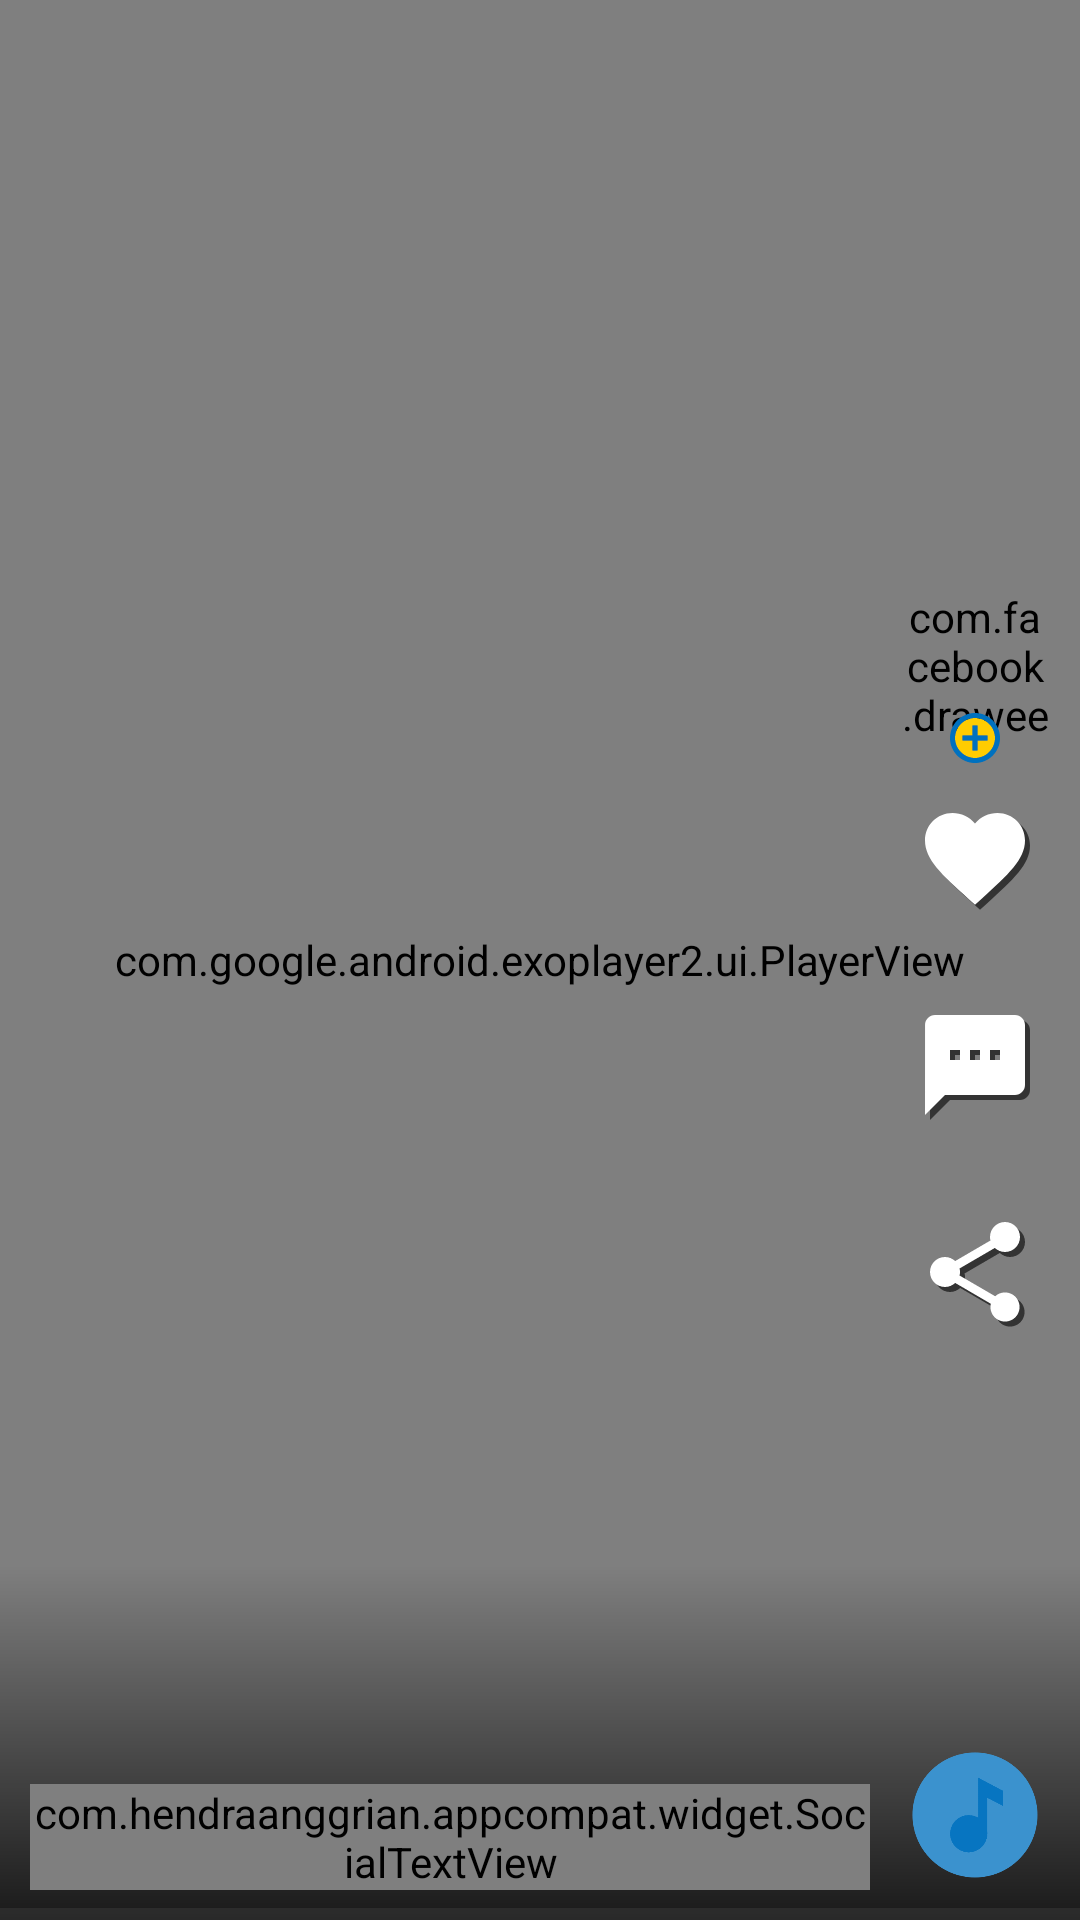

Named icons in this screenshot (1080 × 1920) and their centers, point (x, y):
add circle: point (974, 735)
music disc: point (975, 1815)
